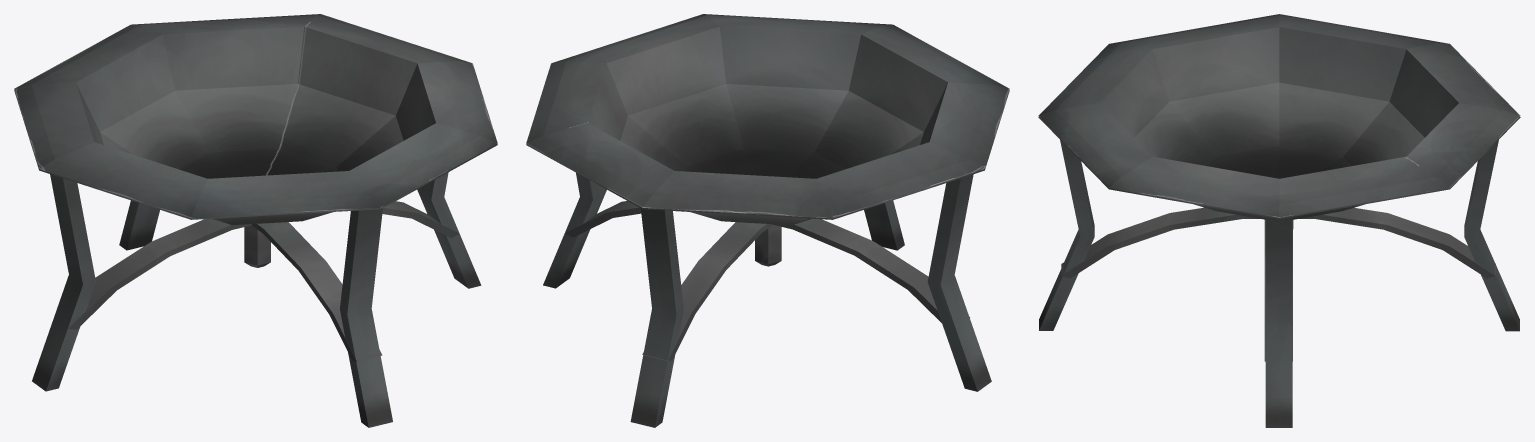
File: TorchVessel.fbx
The picture shows the model from 3 angles, left to right: view 1: azimuth 30°, elevation 25°; view 2: azimuth 150°, elevation 25°; view 3: azimuth 270°, elevation 25°; orthographic projection. The views are drawn at different scales.
Visible parts, largest first — view 1: pCube35; view 2: pCube35; view 3: pCube35.
Part boxes in pixels (box(x1,y1,x2,y2)): pCube35: box(14, 14, 497, 427); pCube35: box(526, 14, 1009, 427); pCube35: box(1038, 14, 1520, 427).
Bounding box in the file's own units: 127 × 64.51 × 127.
Materials: 1 (1 with a texture image).
